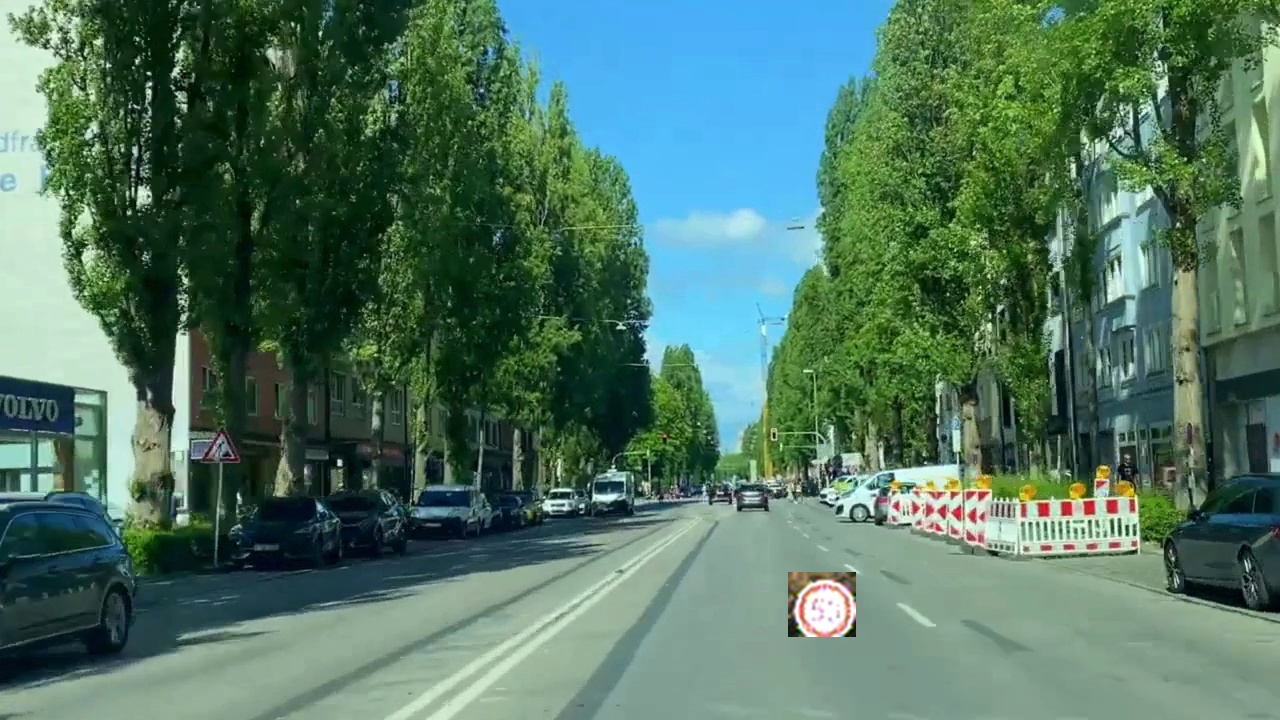Speed 50: (788, 572, 856, 637)
